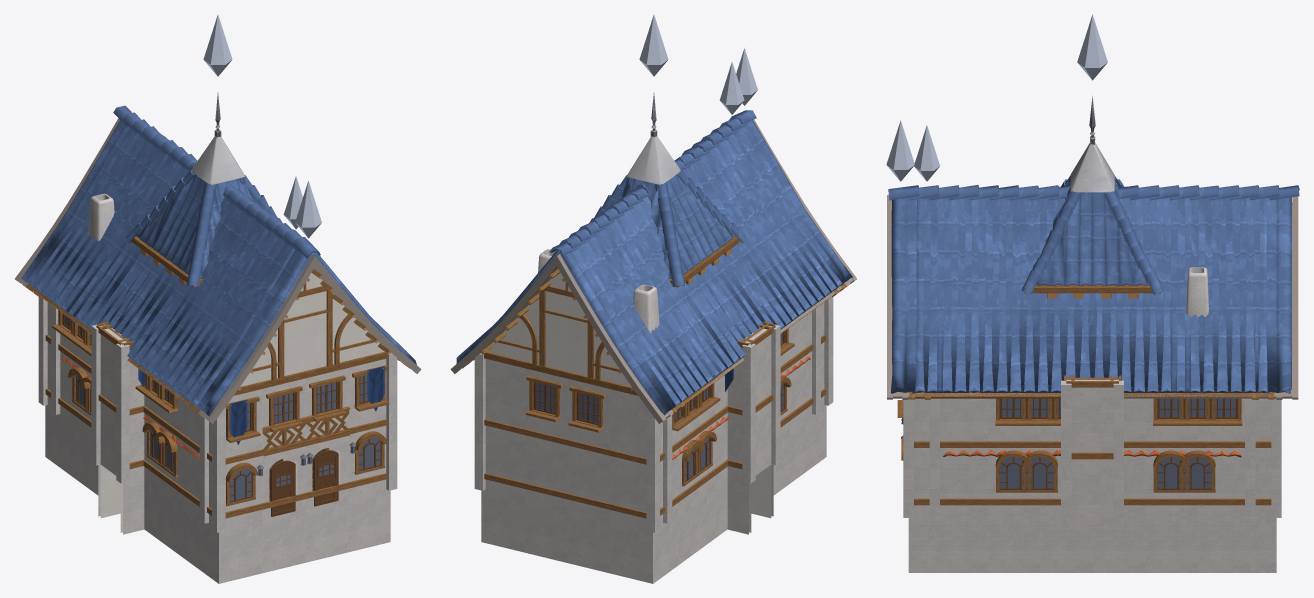
The model's file is vilas.glb.
3 views of the same model, side by side, from view 1: azimuth 30°, elevation 25°; view 2: azimuth 150°, elevation 25°; view 3: azimuth 270°, elevation 25° (orthographic). The views are drawn at different scales.
Parts seen in each view (by area): view 1: aurora_paco_p (×5), aurora_pousada_p (×2), aurora_torre_p (×3), aurora_portao_p, aurora_templo_p (×2); view 2: aurora_paco_p (×4), aurora_pousada_p (×2), aurora_torre_p (×3), aurora_portao_p, aurora_templo_p (×2); view 3: aurora_pousada_p (×3), aurora_paco_p (×4), aurora_torre_p (×3), aurora_portao_p, aurora_templo_p (×3), comercio_p.
Boxes of the visible parts, left/top/right/bottom form: aurora_paco_p (×5): left=15, top=105, right=421, bottom=583; aurora_pousada_p (×2): left=26, top=112, right=406, bottom=574; aurora_torre_p (×3): left=126, top=15, right=282, bottom=287; aurora_portao_p: left=91, top=321, right=144, bottom=534; aurora_templo_p (×2): left=60, top=176, right=335, bottom=487; aurora_paco_p (×4): left=450, top=48, right=856, bottom=583; aurora_pousada_p (×2): left=466, top=121, right=846, bottom=558; aurora_torre_p (×3): left=589, top=15, right=745, bottom=287; aurora_portao_p: left=727, top=321, right=780, bottom=534; aurora_templo_p (×2): left=694, top=61, right=794, bottom=426; aurora_pousada_p (×3): left=909, top=185, right=1279, bottom=572; aurora_paco_p (×4): left=886, top=120, right=1299, bottom=572; aurora_torre_p (×3): left=1021, top=14, right=1163, bottom=298; aurora_portao_p: left=1061, top=375, right=1123, bottom=528; aurora_templo_p (×3): left=914, top=125, right=1244, bottom=441; comercio_p: left=943, top=450, right=1241, bottom=457.
Bounding box in the file's own units: 10.4 × 21.6 × 15.72.
21 materials, 16 textured.
